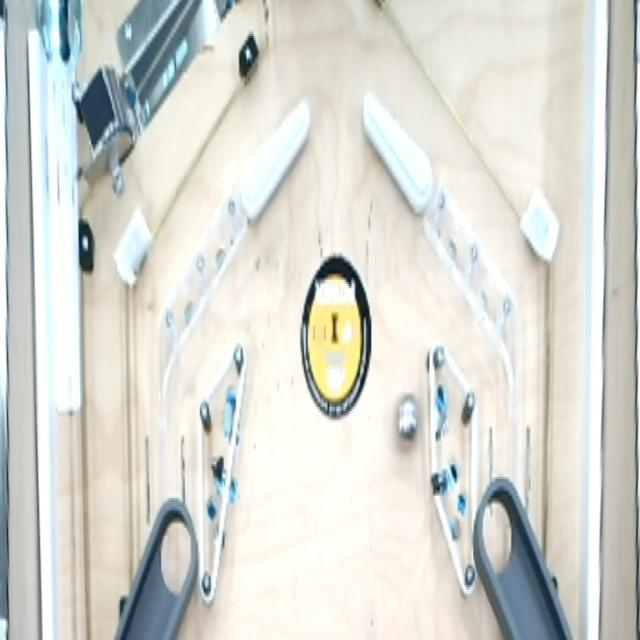ball: (390, 390, 422, 458)
flipper-left: (360, 86, 442, 235)
flipper-right: (238, 86, 316, 233)
